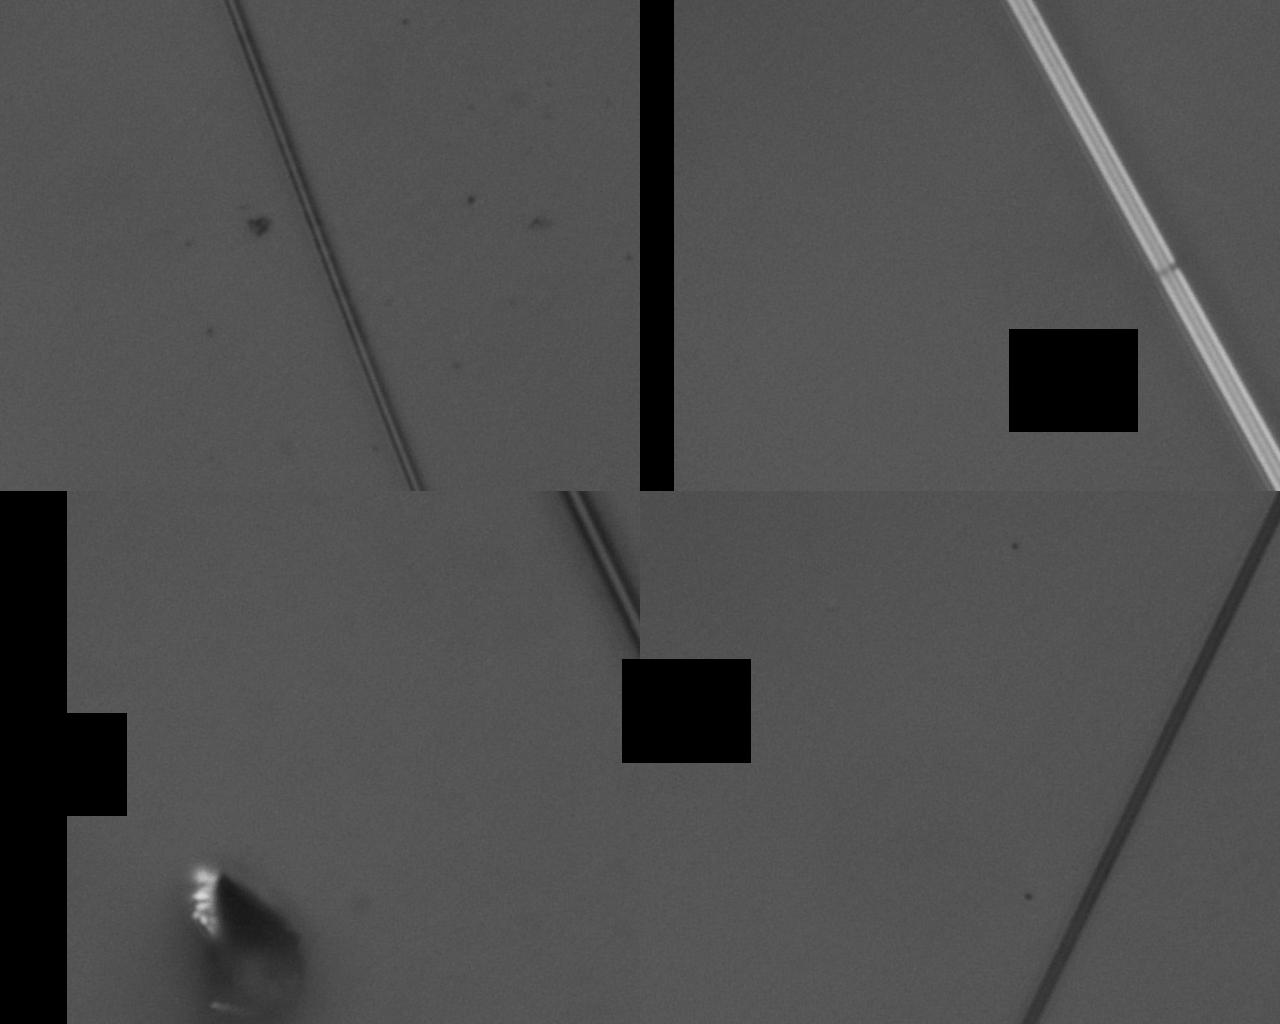fiber: (399, 0, 571, 665), (729, 0, 835, 665), (553, 665, 716, 1024), (1076, 665, 1218, 1024)
